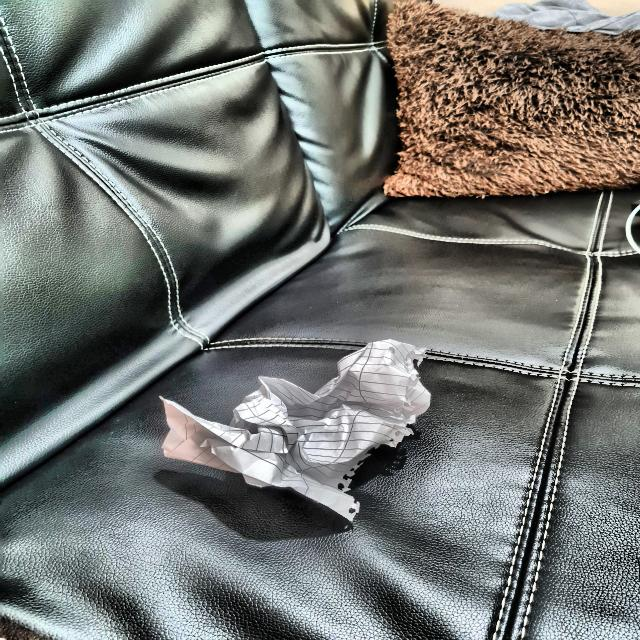Paper: (168, 340, 439, 518)
